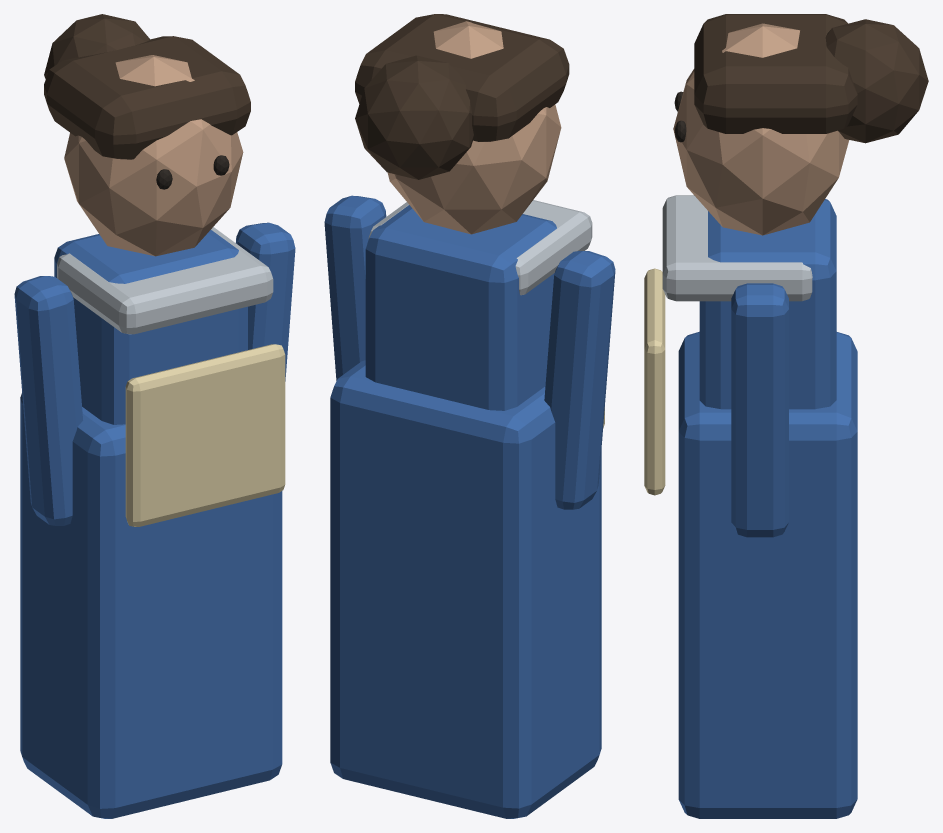
Rendered from lady_speech_3996.glb.
3 views of the same model, side by side, from view 1: azimuth 30°, elevation 25°; view 2: azimuth 150°, elevation 25°; view 3: azimuth 270°, elevation 25° (orthographic). The views are drawn at different scales.
Parts seen in each view (by area): view 1: Formal skirt, Held language tablet, Head, Hair cap, Upright bodice, Poised arm, Council collar, Poised arm.001, Hair bun; view 2: Formal skirt, Upright bodice, Poised arm, Head, Hair cap, Hair bun, Poised arm.001, Council collar; view 3: Formal skirt, Head, Hair cap, Upright bodice, Poised arm.001, Hair bun, Council collar, Held language tablet.
Boxes of the visible parts, x1,y1,x2,y2 form: Formal skirt: (20, 393, 282, 818); Held language tablet: (125, 344, 285, 526); Head: (64, 55, 243, 256); Hair cap: (44, 36, 250, 159); Upright bodice: (54, 230, 247, 424); Poised arm: (14, 276, 82, 525); Council collar: (57, 227, 273, 334); Poised arm.001: (236, 222, 295, 381); Hair bun: (44, 14, 149, 78); Formal skirt: (330, 360, 601, 818); Upright bodice: (365, 205, 556, 410); Poised arm: (544, 251, 615, 509); Head: (387, 21, 561, 234); Hair cap: (355, 14, 569, 141); Hair bun: (355, 55, 473, 179); Poised arm.001: (324, 195, 386, 380); Council collar: (368, 200, 592, 295); Formal skirt: (678, 331, 857, 818); Head: (673, 23, 849, 235); Hair cap: (694, 14, 857, 133); Upright bodice: (699, 199, 836, 409); Poised arm.001: (731, 283, 788, 537); Hair bun: (825, 19, 928, 143); Council collar: (662, 195, 812, 301); Held language tablet: (644, 268, 665, 495).
Size of the model in its own units: 1.21 by 3.16 by 1.08.
